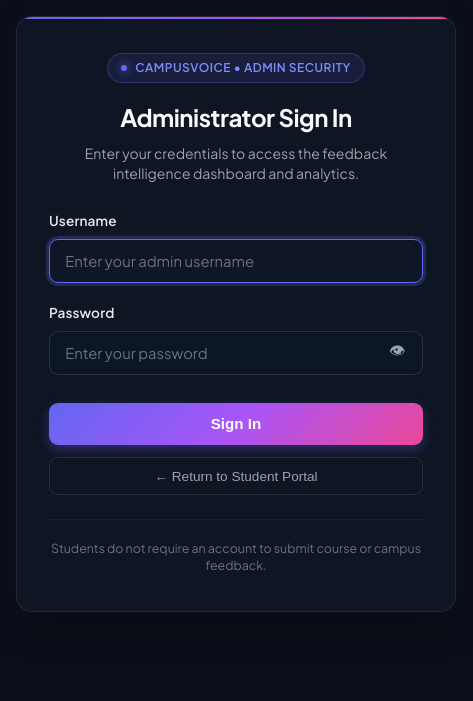
Test: LoginPage Component › displays user-safe error alert when login fails
The width and height of the screenshot is (473, 701).
Type "admin_user" into the field labelled "Username".
click(236, 261); type("admin_user")  # box top-left (49, 239), bottom-right (423, 283)
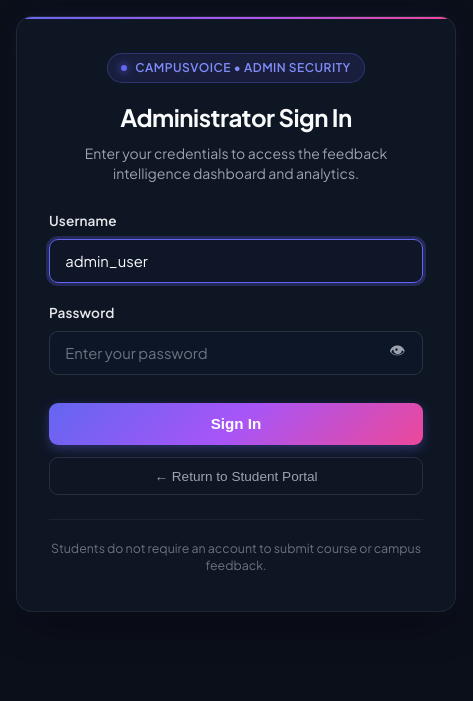
Type "wrong-password" into the password field labelled "Password".
click(236, 352); type("wrong-password")  # box top-left (49, 330), bottom-right (423, 374)
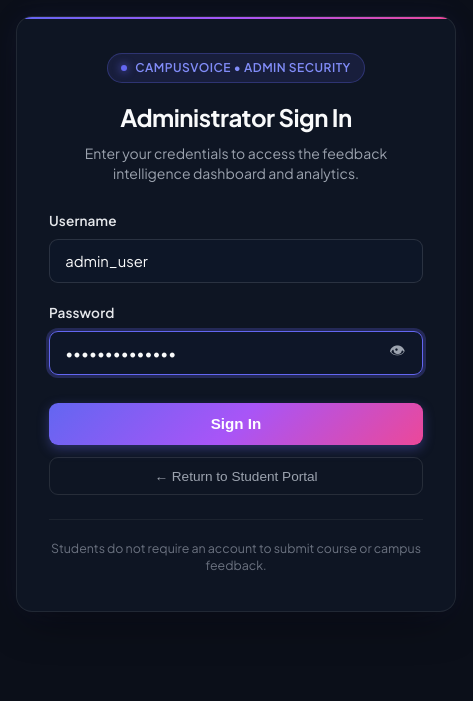
Click the button "Sign In".
click(236, 424)  # box top-left (49, 402), bottom-right (423, 445)
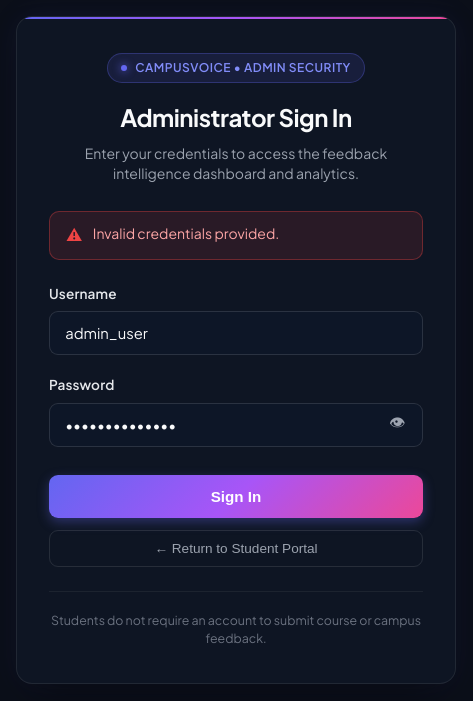
Check: the message shows "Invalid credentials provided.", box top-left (93, 224), bottom-right (279, 242)
